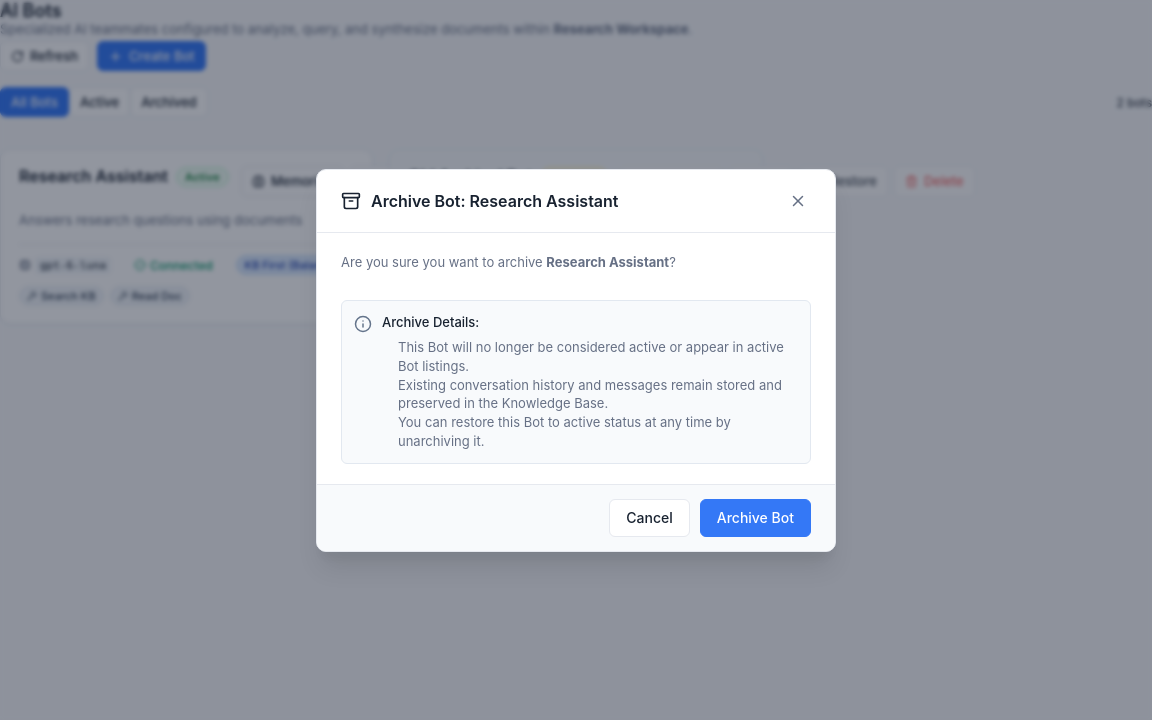
it: WorkspaceBotsPage Integration (Phase 6 Step 6.6) › 5. Lifecycle Dialogs › archives an active Bot through BotArchiveDialog
Earlier steps of the test are not shown.
Expected: the dialog with test id "archive-bot-dialog" is shown, x1=316 y1=168 x2=836 y2=552
Expected: the heading "Archive Bot: Research Assistant" is shown, x1=371 y1=190 x2=618 y2=210
Click the button with test id "archive-bot-confirm-btn": x=755, y=518 x1=700 y1=499 x2=811 y2=536
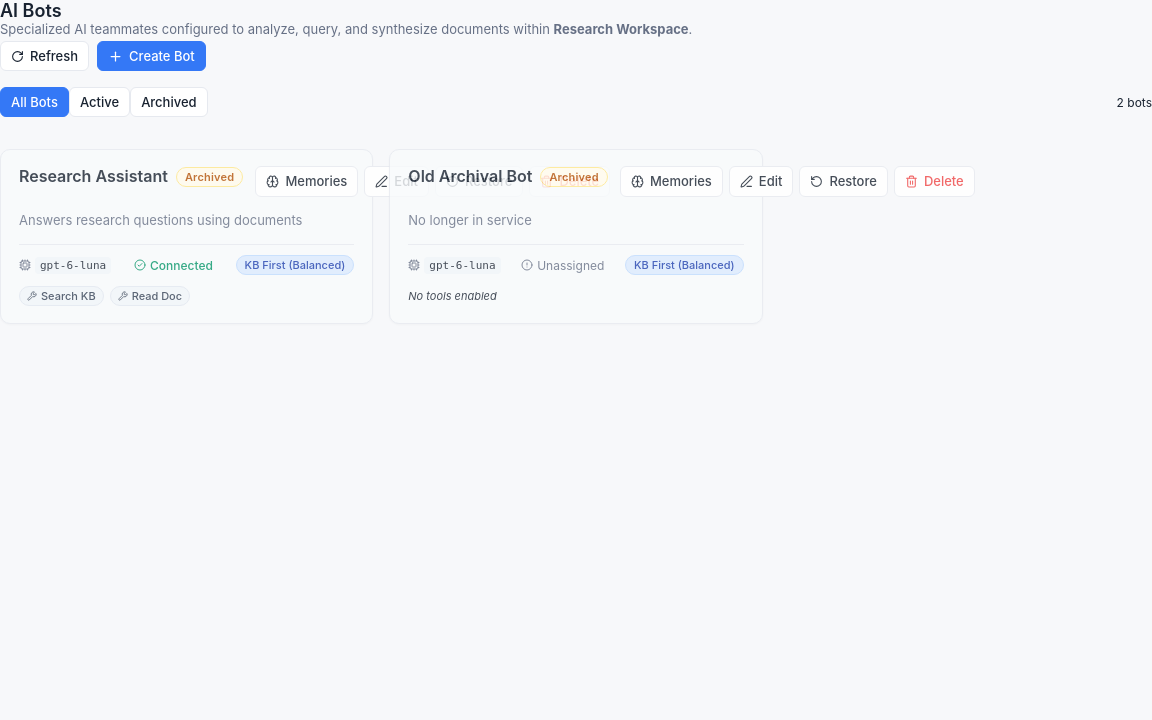
Result: the dialog with test id "archive-bot-dialog" is gone
